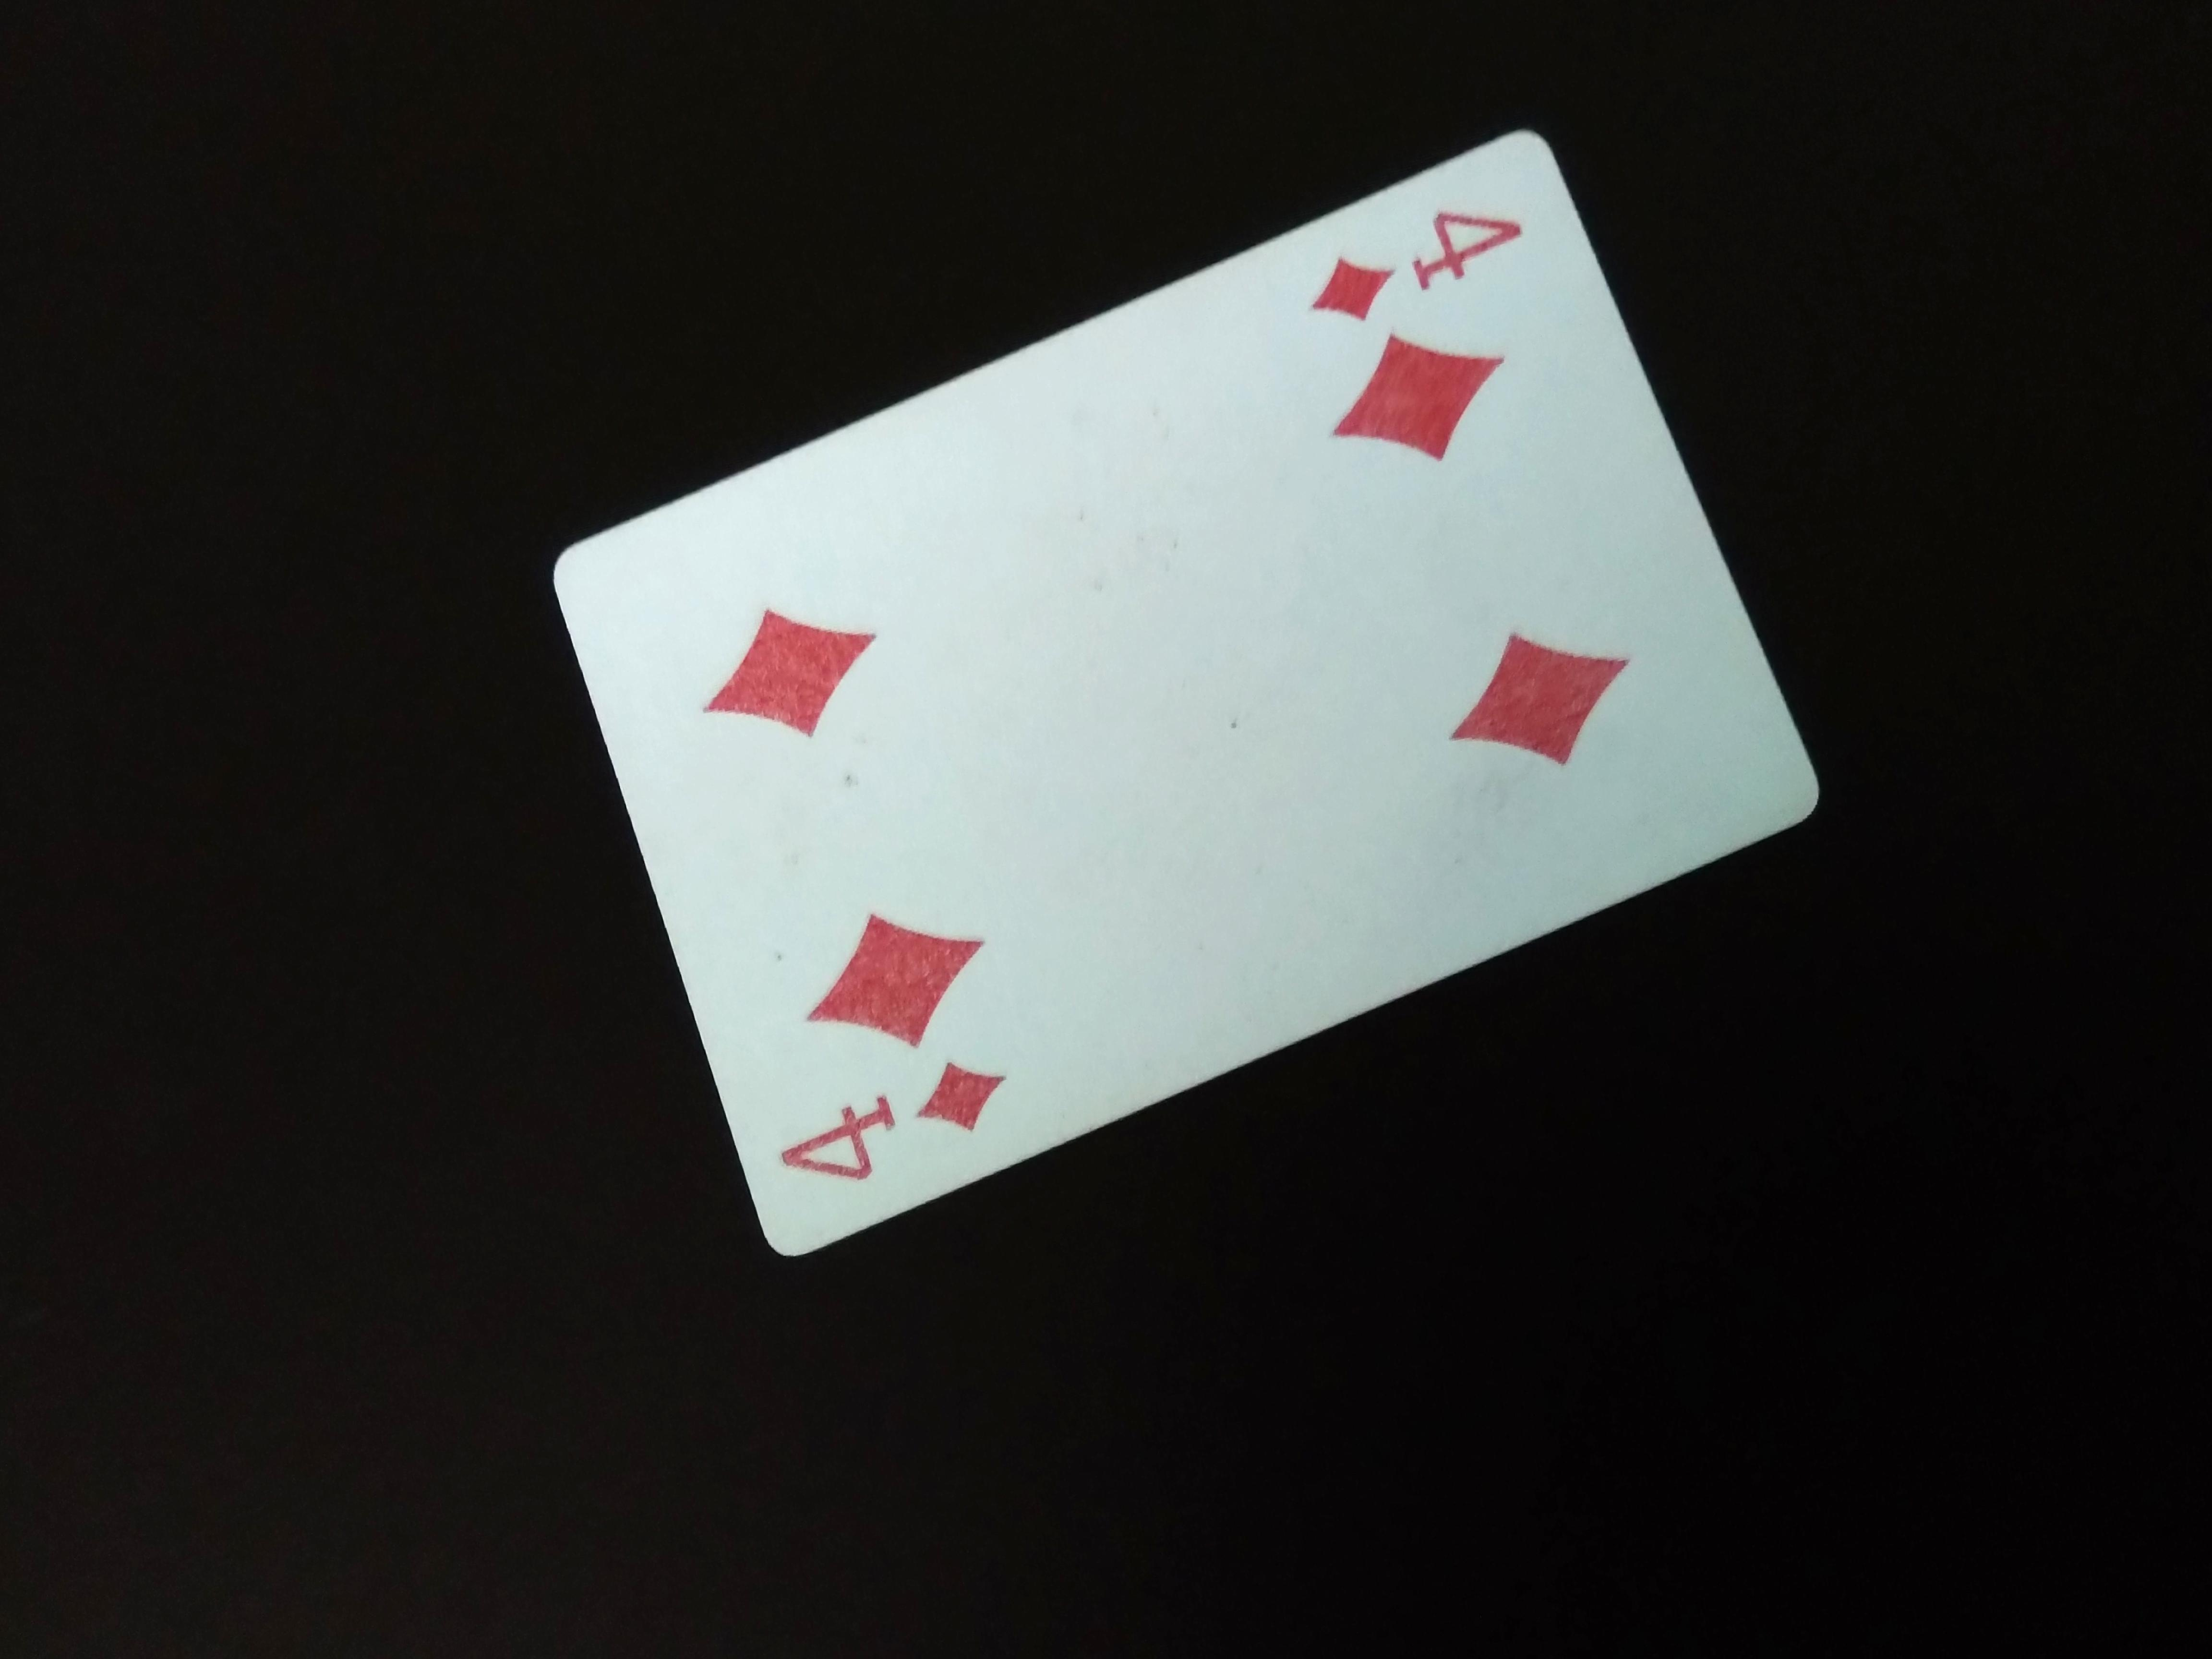4D: (770, 1053, 1010, 1194)
